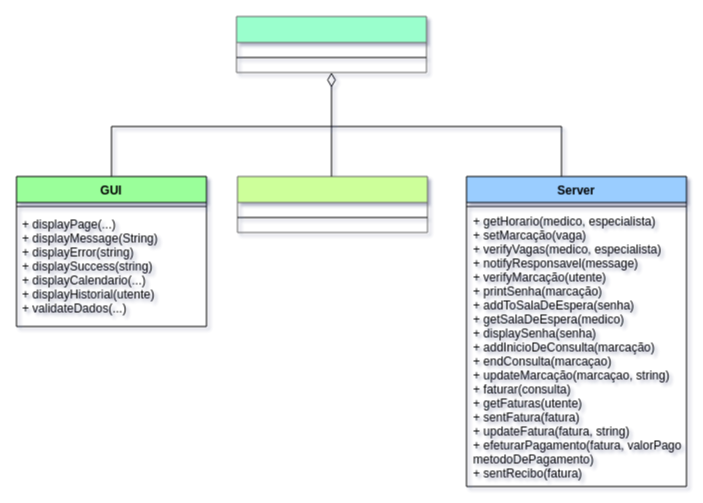
This 703x503 diagram has some shape labels left out. The shapes that lost their labels are listed below. From the top down, each one's centre as x and y in pixels, then its label:
At point (331, 44): "Sistema".
At point (332, 204): "BaseDeDados".
